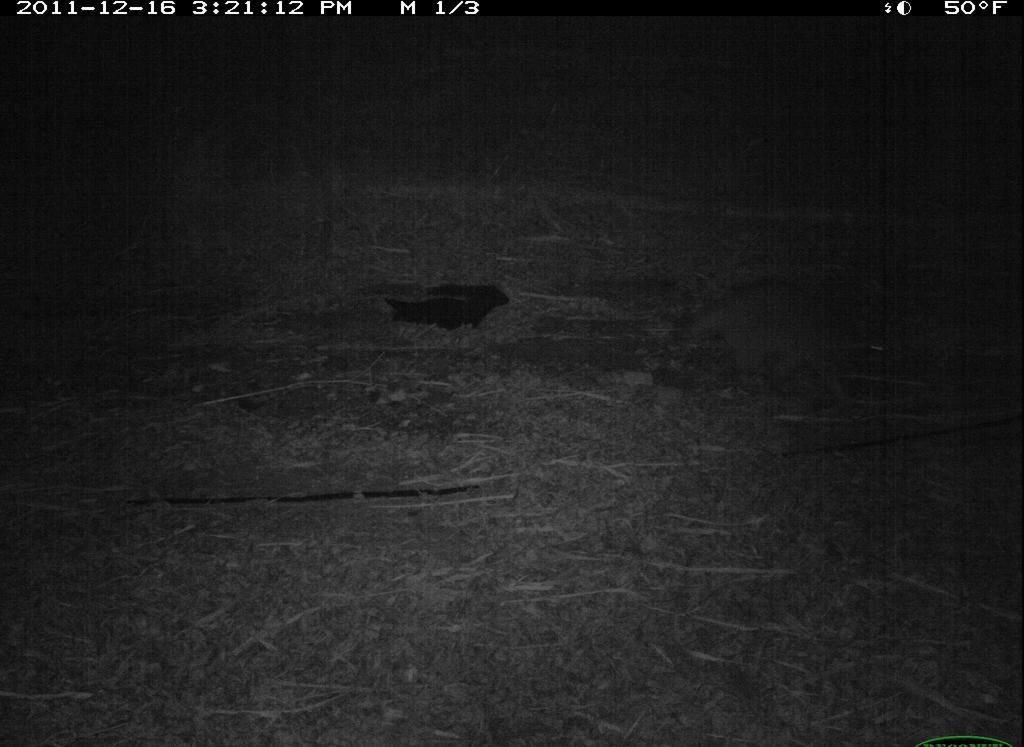raccoon: (670, 267, 898, 409)
